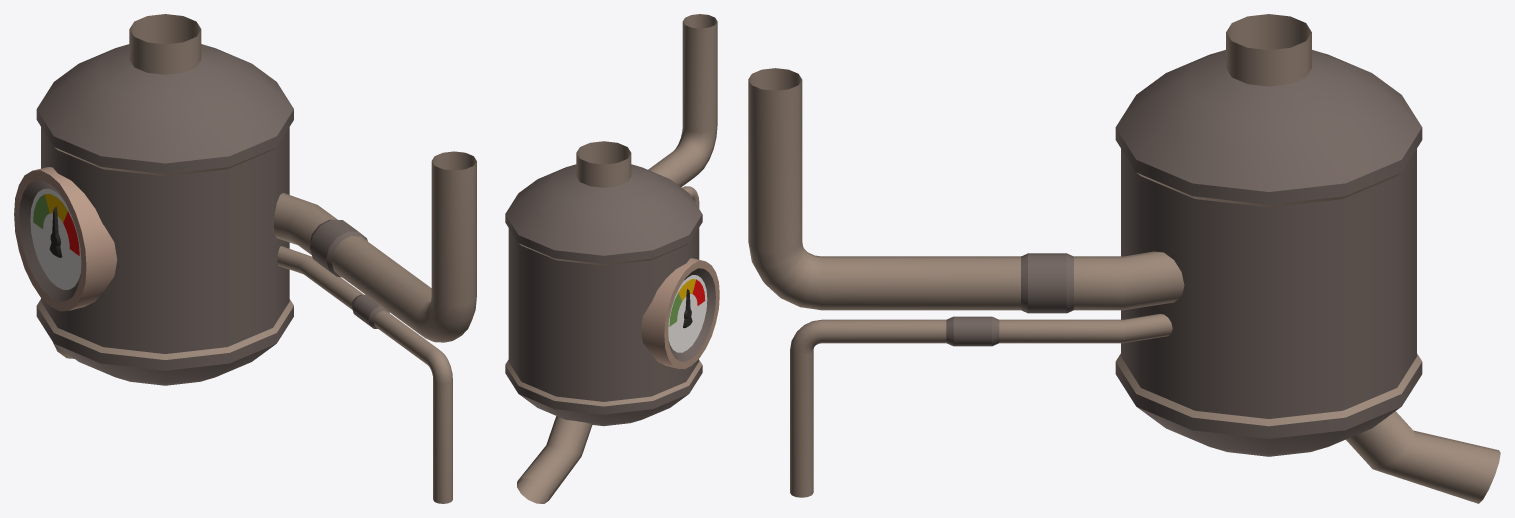
Rendered from Boiler.fbx.
3 renders of one model, left to right at view 1: azimuth 30°, elevation 25°; view 2: azimuth 150°, elevation 25°; view 3: azimuth 270°, elevation 25°, orthographic. The views are drawn at different scales.
Parts seen in each view (by area): view 1: Boiler; view 2: Boiler; view 3: Boiler.
Boxes of the visible parts, x1=… form: Boiler: x1=14, y1=14, x2=476, y2=503; Boiler: x1=505, y1=14, x2=719, y2=503; Boiler: x1=748, y1=14, x2=1500, y2=503.
Size of the model in its own units: 137 by 330 by 227.
